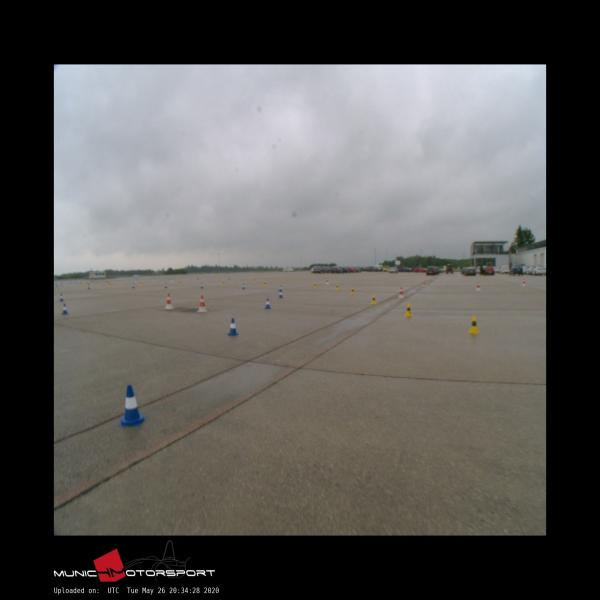blue_cone: (117, 385, 145, 425), (228, 318, 238, 336), (264, 298, 271, 308), (62, 303, 68, 314), (278, 289, 284, 298), (59, 293, 64, 301), (278, 285, 283, 291)
yellow_cone: (468, 316, 480, 334), (405, 304, 412, 316), (371, 295, 377, 305), (350, 287, 355, 295), (336, 284, 340, 290), (313, 282, 317, 288)
